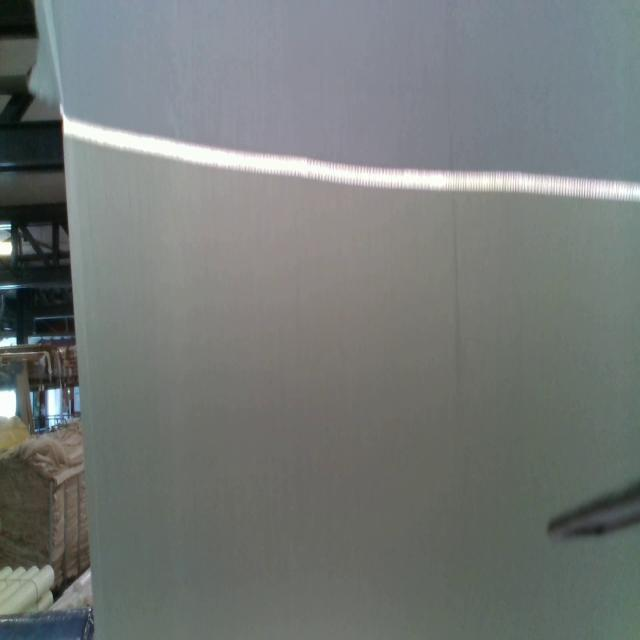crease: (446, 118, 466, 392)
